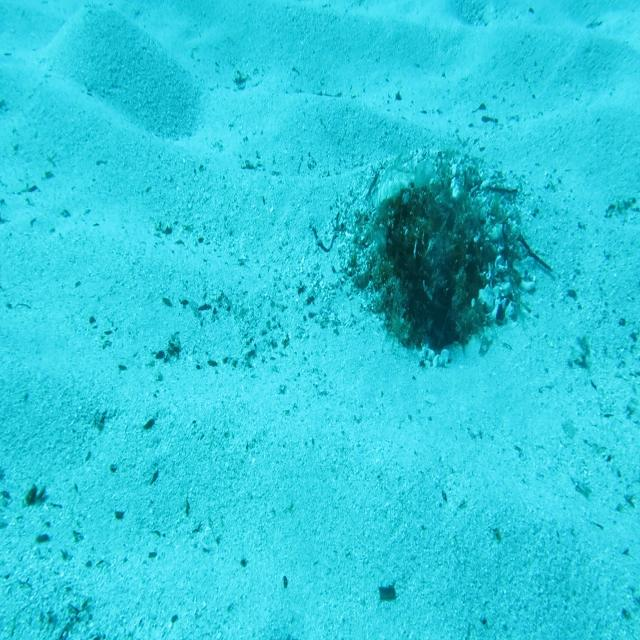NIP_IN: (367, 149, 437, 221)
core_nest: (425, 209, 471, 253)
nest: (329, 136, 544, 378)
